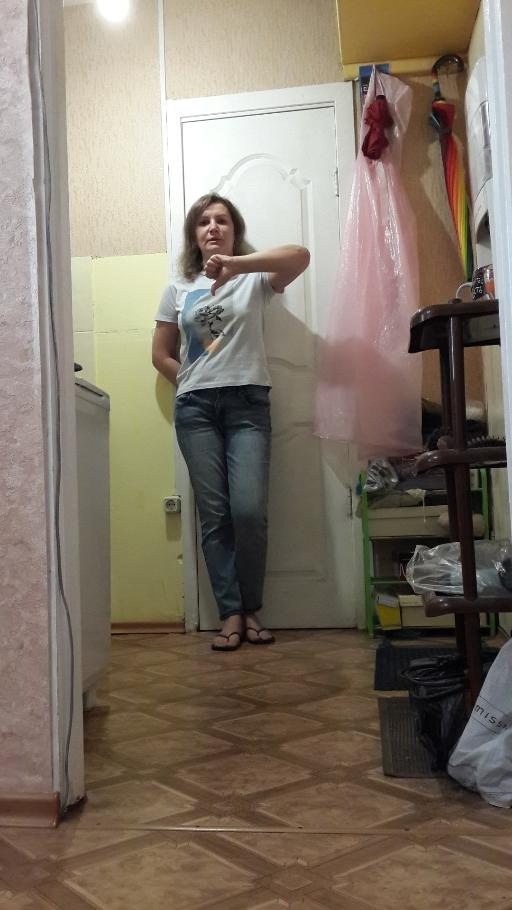dislike: (203, 252, 233, 295)
